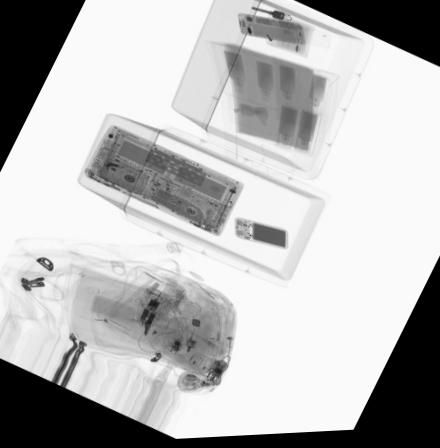Powerbank: (233, 217, 288, 253)
